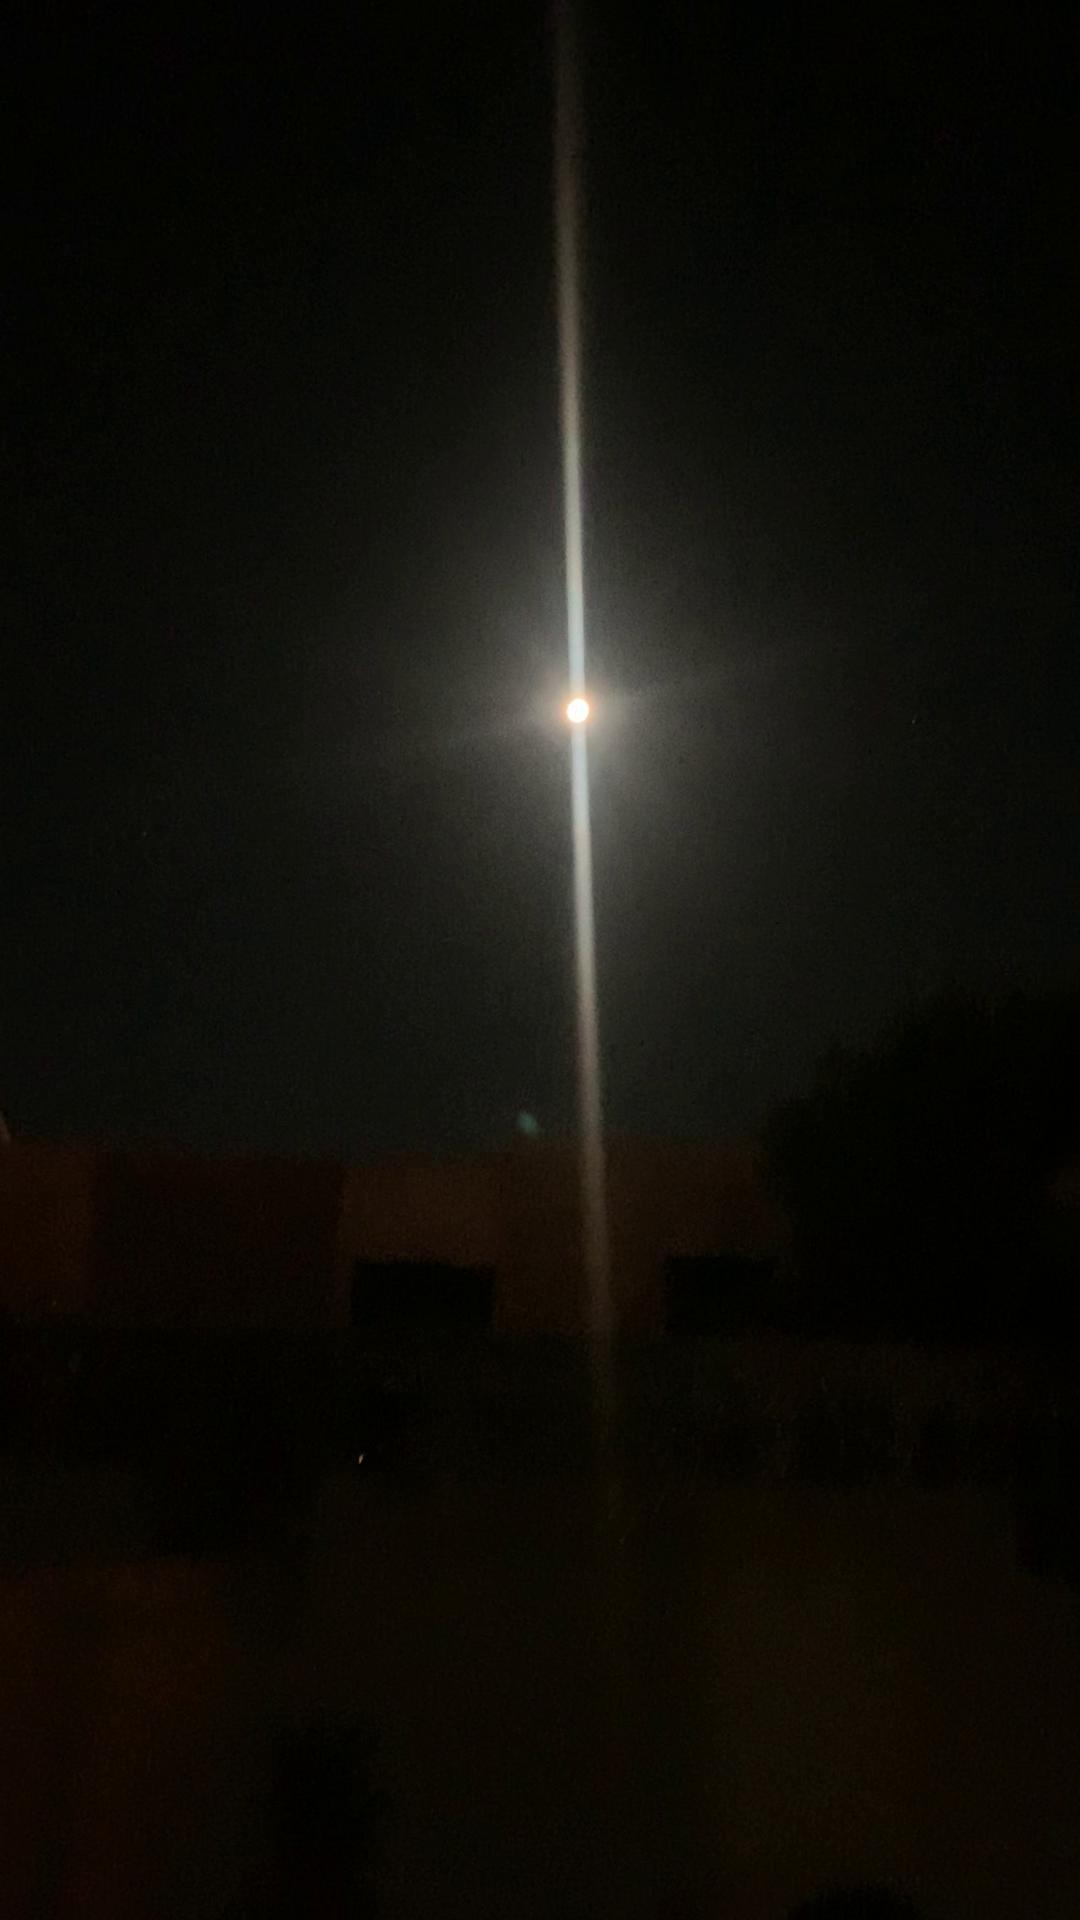moon: (553, 682, 628, 761)
